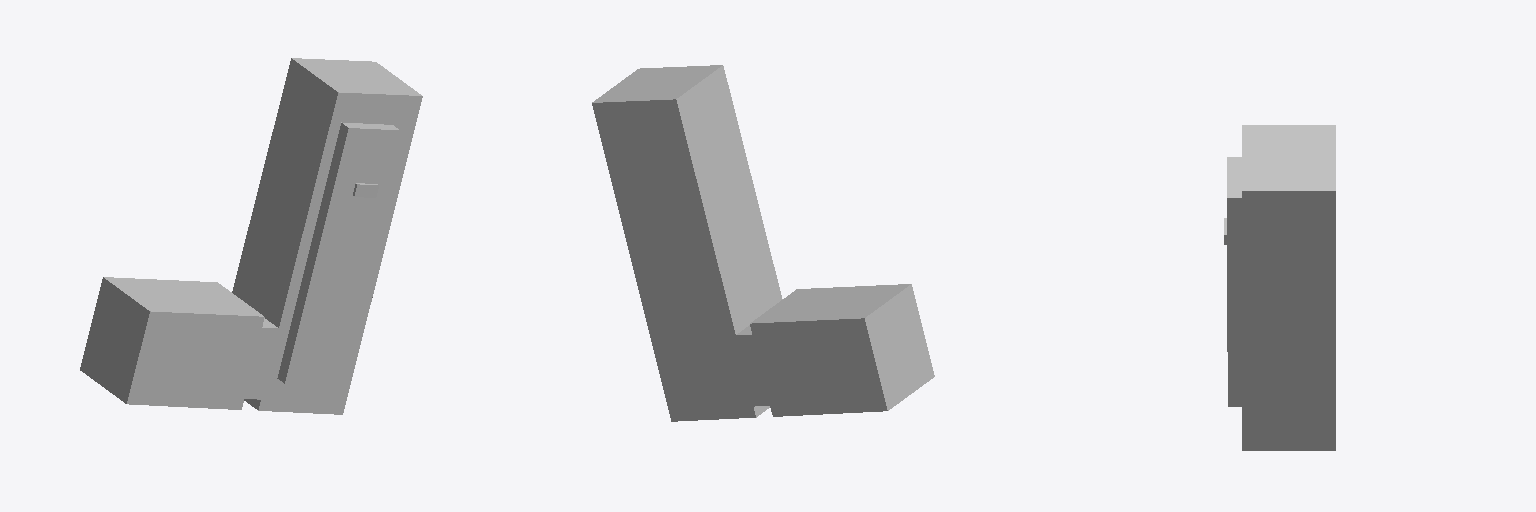
File: talo_Build0000041.obj
3 renders of one model, left to right at view 1: azimuth 30°, elevation 25°; view 2: azimuth 150°, elevation 25°; view 3: azimuth 270°, elevation 25°, orthographic.
Size of the model in its own units: 60.55 by 63.2 by 19.98.